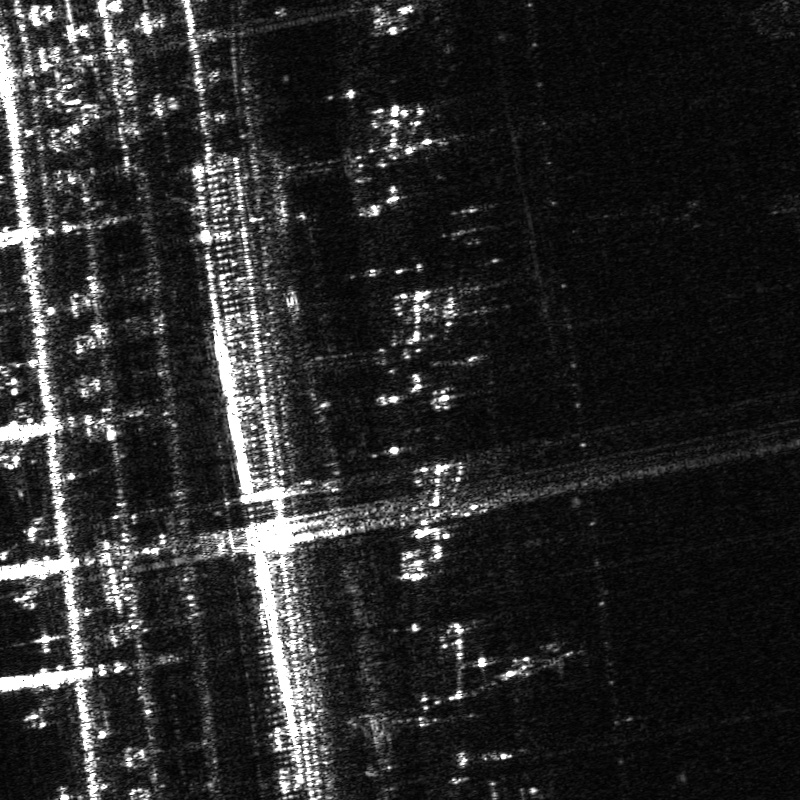A220: (400, 99, 468, 183)
